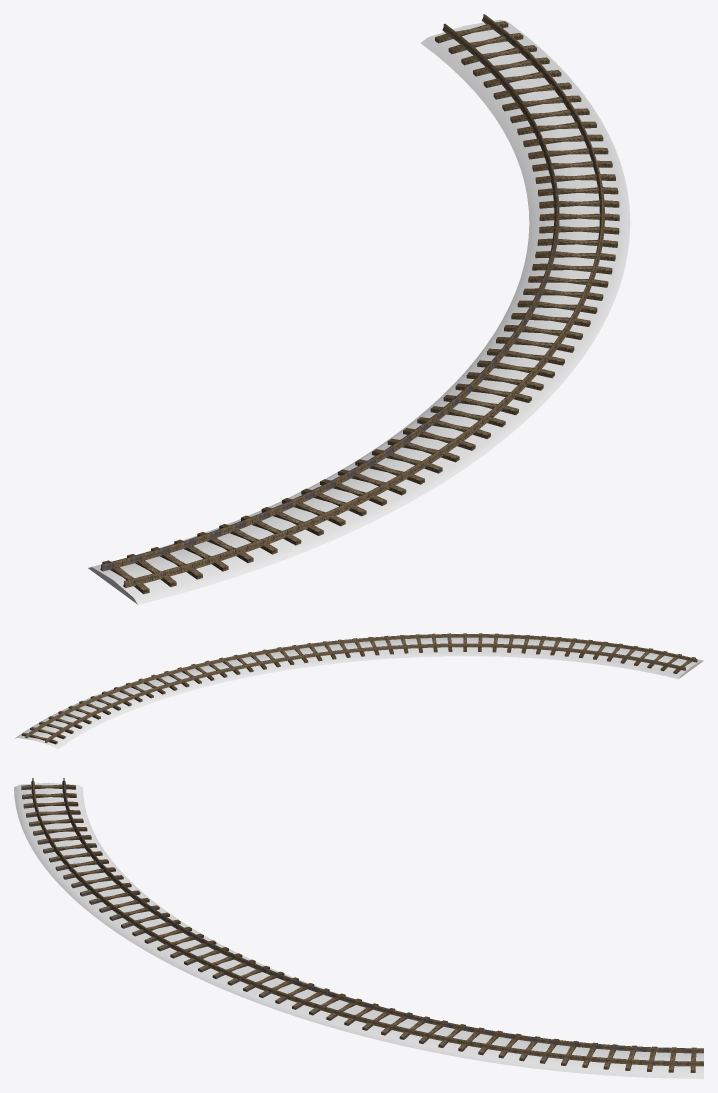
The model's file is Rail turn 90 to right long_LOD1.fbx.
3 renders of one model, top to bottom at view 1: azimuth 30°, elevation 25°; view 2: azimuth 150°, elevation 25°; view 3: azimuth 270°, elevation 25°, orthographic. The views are drawn at different scales.
Parts seen in each view (by area): view 1: Rail_turn_90_to_right_long_LOD1; view 2: Rail_turn_90_to_right_long_LOD1; view 3: Rail_turn_90_to_right_long_LOD1.
Boxes of the visible parts, box(x1,y1,x2,y2) form: Rail_turn_90_to_right_long_LOD1: box(88, 14, 630, 604); Rail_turn_90_to_right_long_LOD1: box(14, 633, 703, 749); Rail_turn_90_to_right_long_LOD1: box(14, 778, 703, 1078).
Bounding box in the file's own units: 10 × 0.1466 × 10.
